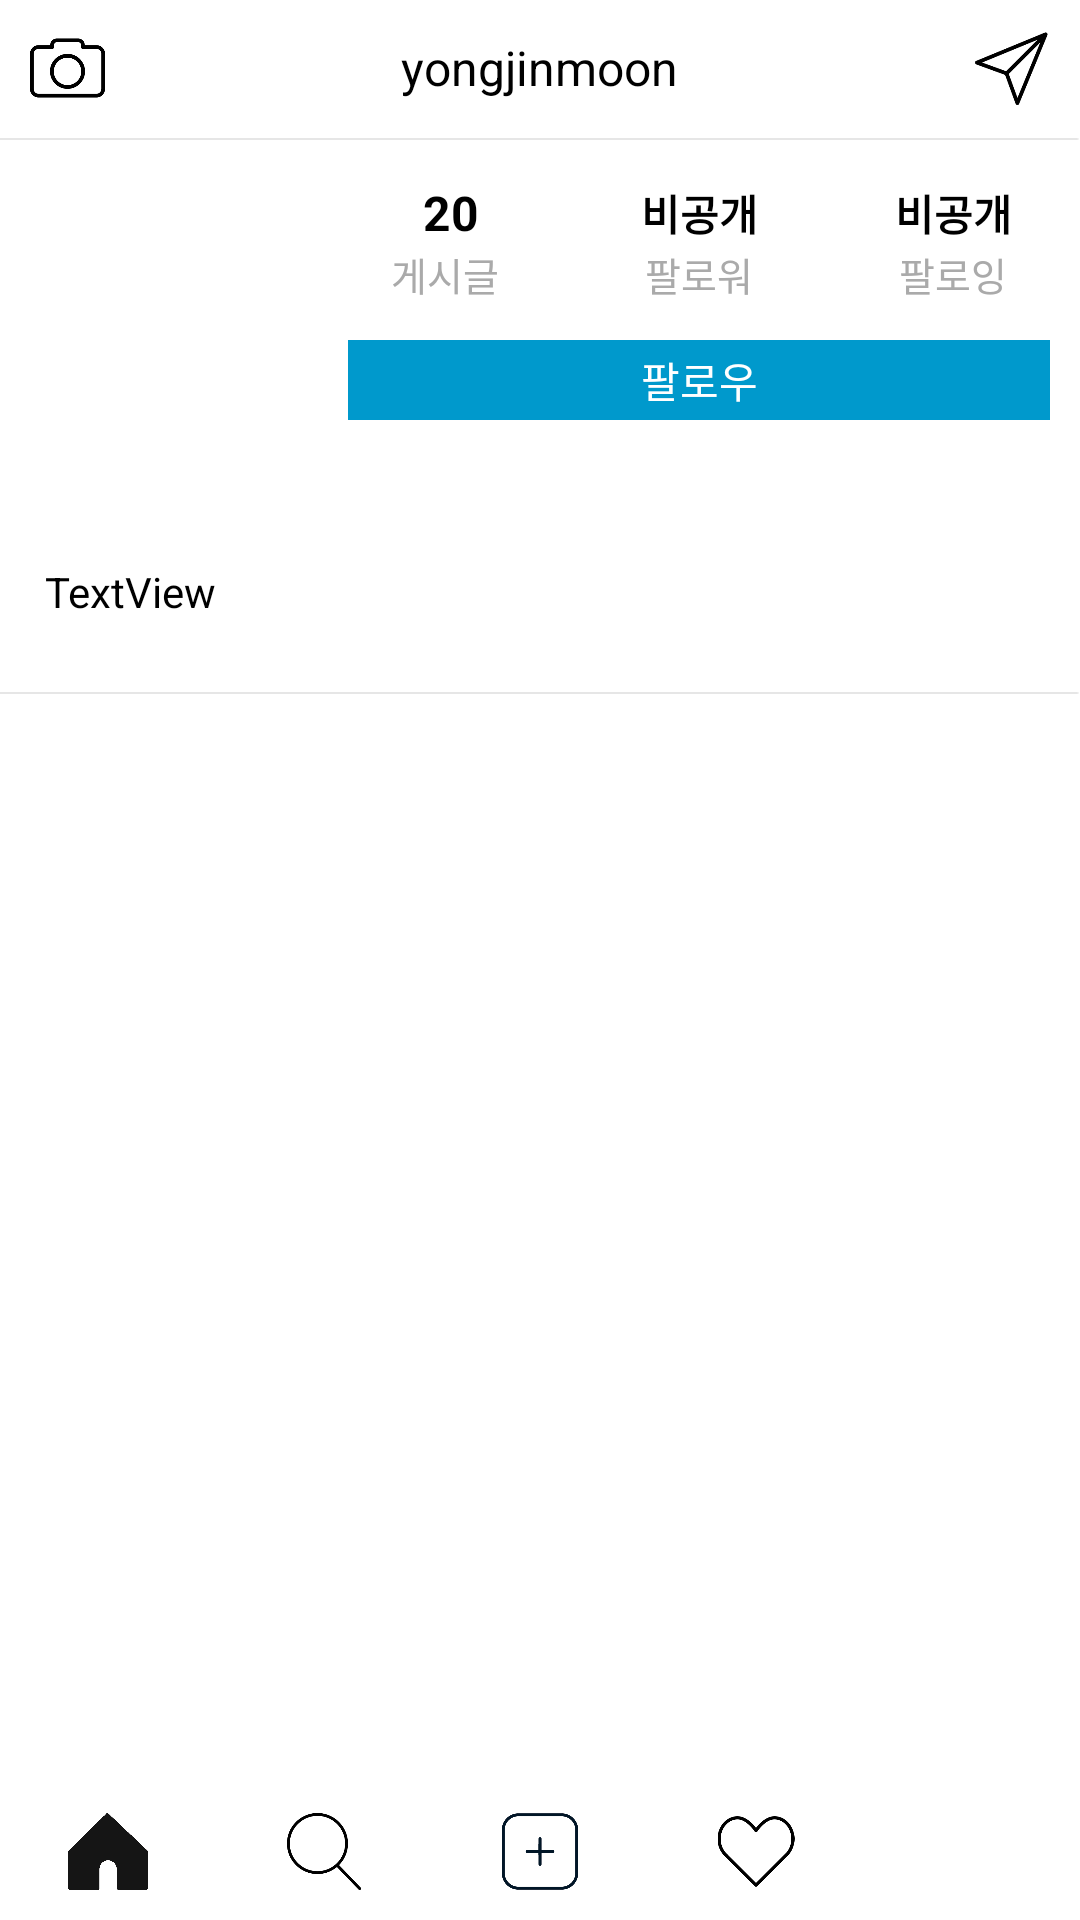

Named icons in this screenshot (1080 × 1920) and their bounding boxes, region(x1, y1, x2, y2):
camera: region(30, 38, 105, 98)
direction: region(975, 32, 1048, 105)
heart: region(718, 1816, 795, 1887)
home: region(68, 1813, 148, 1890)
post: region(502, 1813, 578, 1890)
search: region(287, 1813, 361, 1890)
